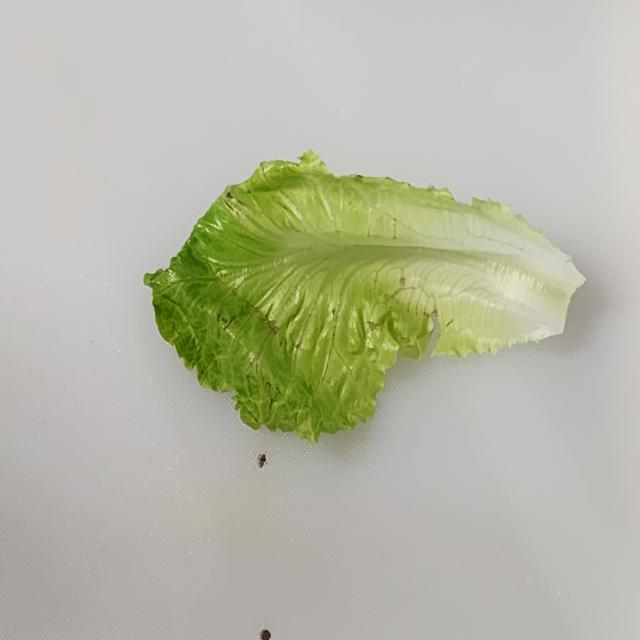lettuce: (143, 148, 586, 445)
